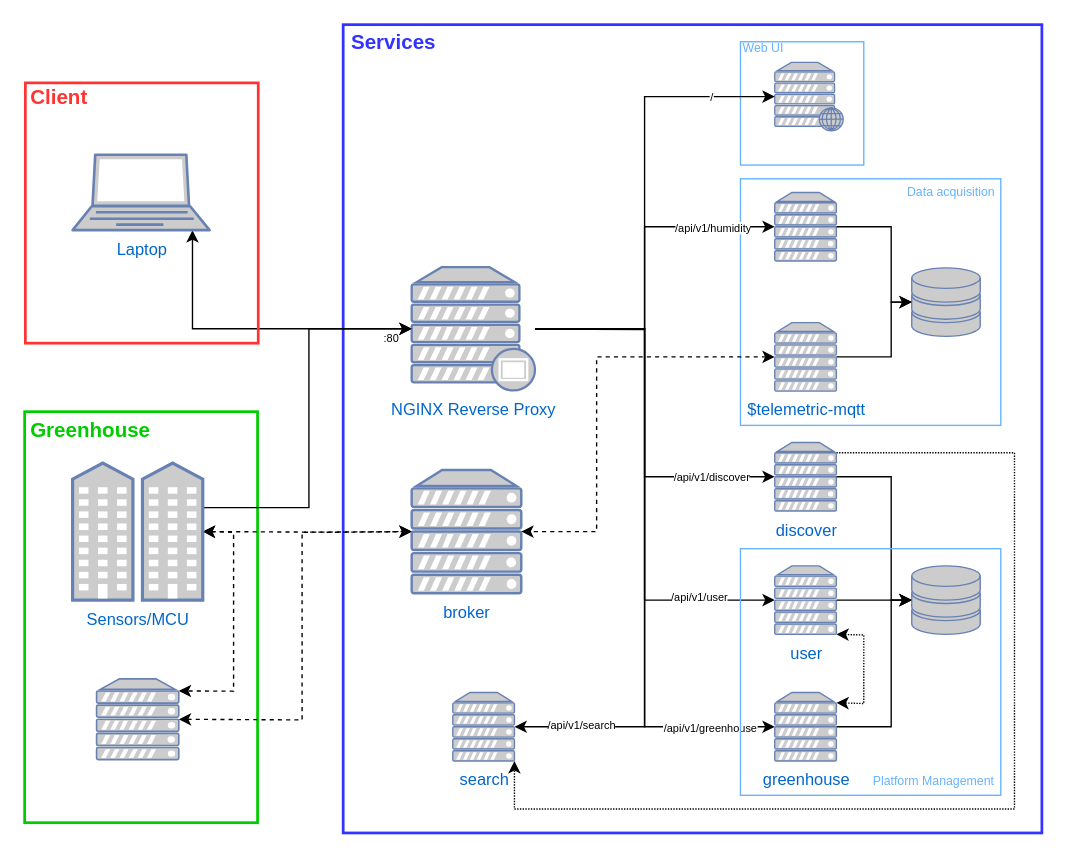
Some shapes in this 1067 by 858 pixel diagram are drawn without their labels. Each missing label, with the centre of its shape:
"$telemetric-rest" belongs at [805,226].
"db" belongs at [945,599].
"db-$telemtric" belongs at [945,301].
"Local broker" belongs at [137,718].
"NGINX web" belongs at [808,96].
